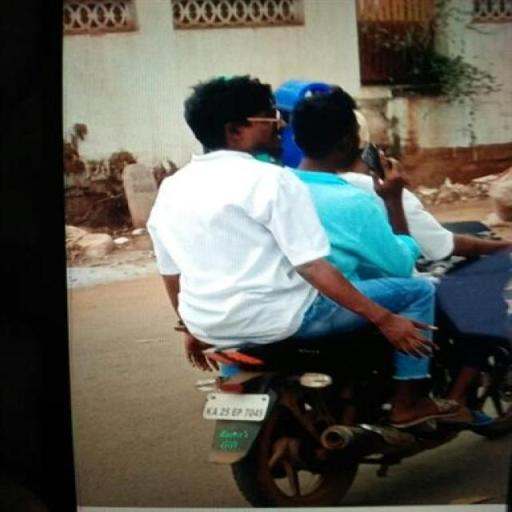tripple riding: (124, 72, 500, 346)
